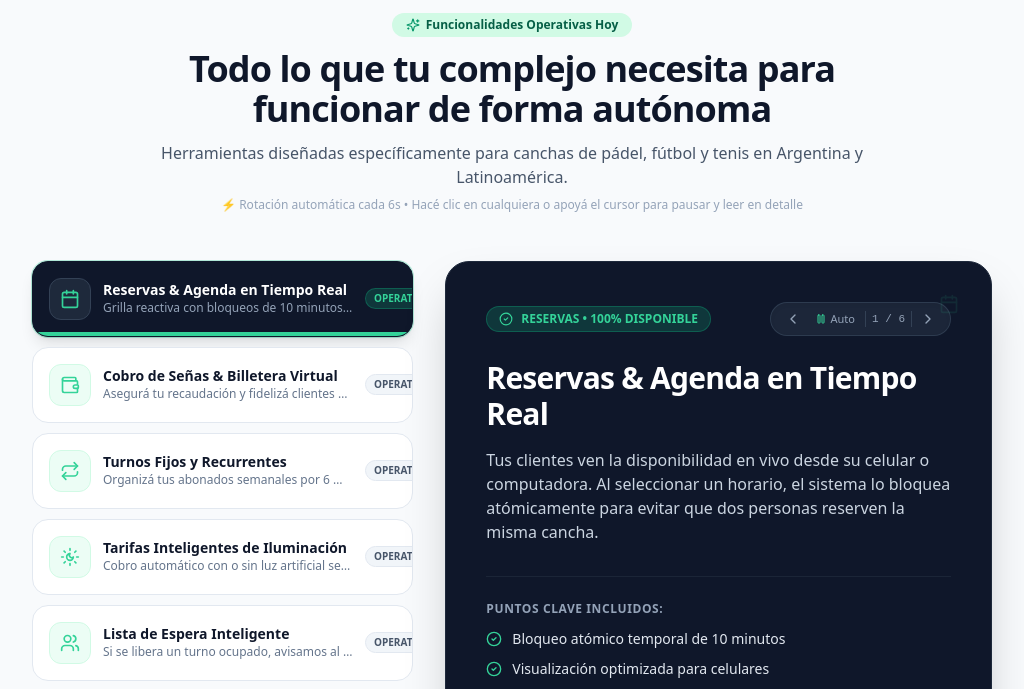
it: Landing Page Vendedora (PortalPage) › permite navegar manualmente por las obleas de funcionalidades y soporta controles de pausa y siguiente/anterior
(page scrolled)
expect the text "1 / 6" is shown: met, box [865,310,912,326]
expect the text "Tus clientes ven la disponibilidad en vivo desde su celular" is shown: met, box [486,448,950,542]
Hacemos click en la oblea "Cobro de Señas & Billetera Virtual"
Click the button "Cobro de Señas & Billetera Virtual": coordinates (223, 384) [32,346,413,422]
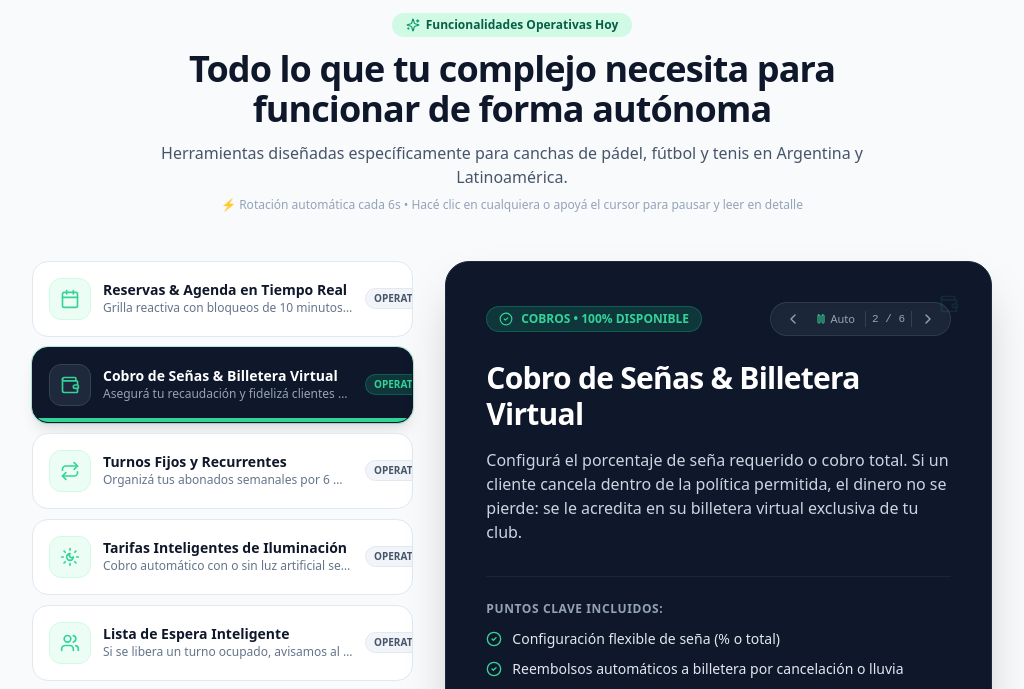
expect the text "2 / 6" is shown: met, box [865,310,912,326]
expect the text "Configurá el porcentaje de seña requerido o cobro total" is shown: met, box [486,448,949,542]
Probamos el botón Siguiente
Click the button named "Siguiente funcionalidad": coordinates (928, 318) [916,306,940,330]
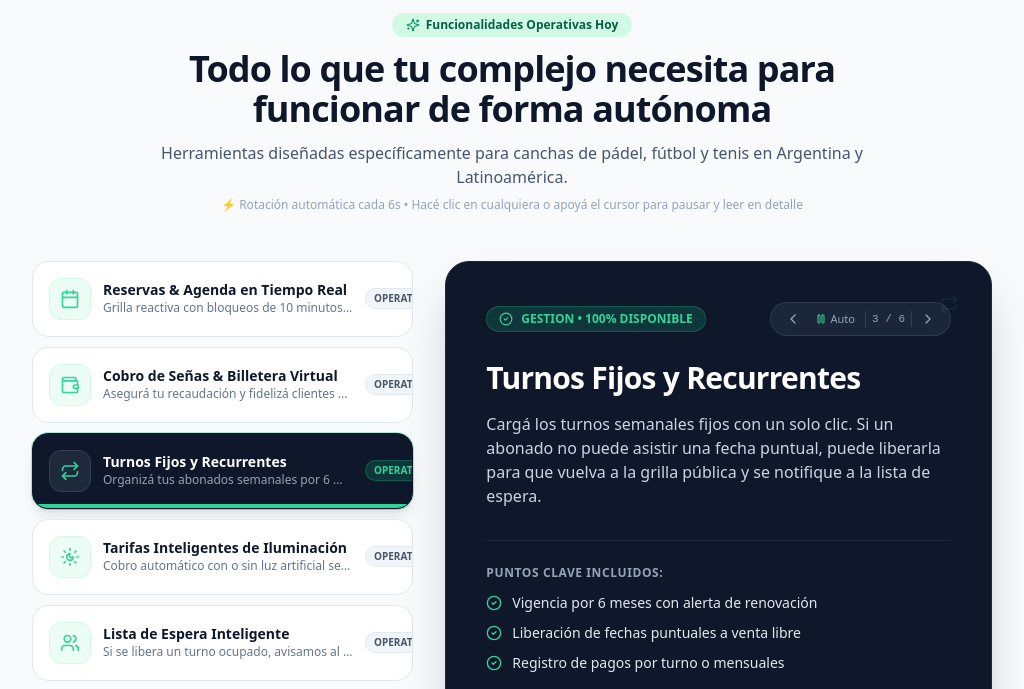
expect the text "3 / 6" is shown: met, box [865,310,912,326]
expect the text "Cargá los turnos semanales fijos con un solo clic" is shown: met, box [486,412,941,506]
Probamos el botón Anterior
Click the button named "Funcionalidad anterior": coordinates (792, 318) [780,306,804,330]
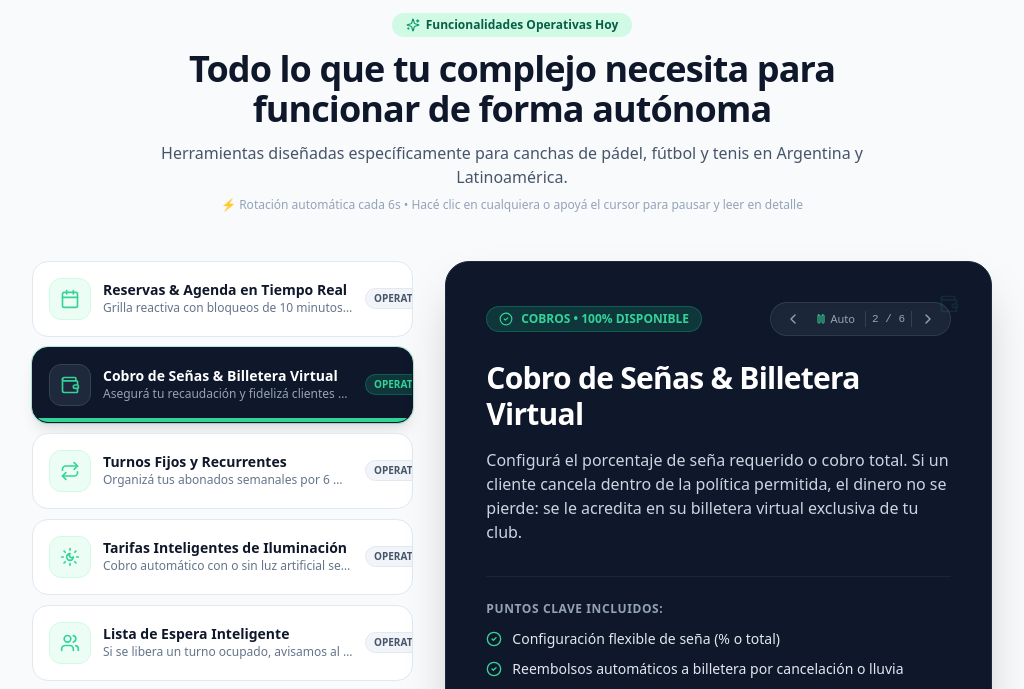
expect the text "2 / 6" is shown: met, box [865,310,912,326]
Probamos alternar Pausa / Auto-rotación
Click the button with aria-label "Pausar rotación automática": coordinates (835, 318) [808,308,861,328]
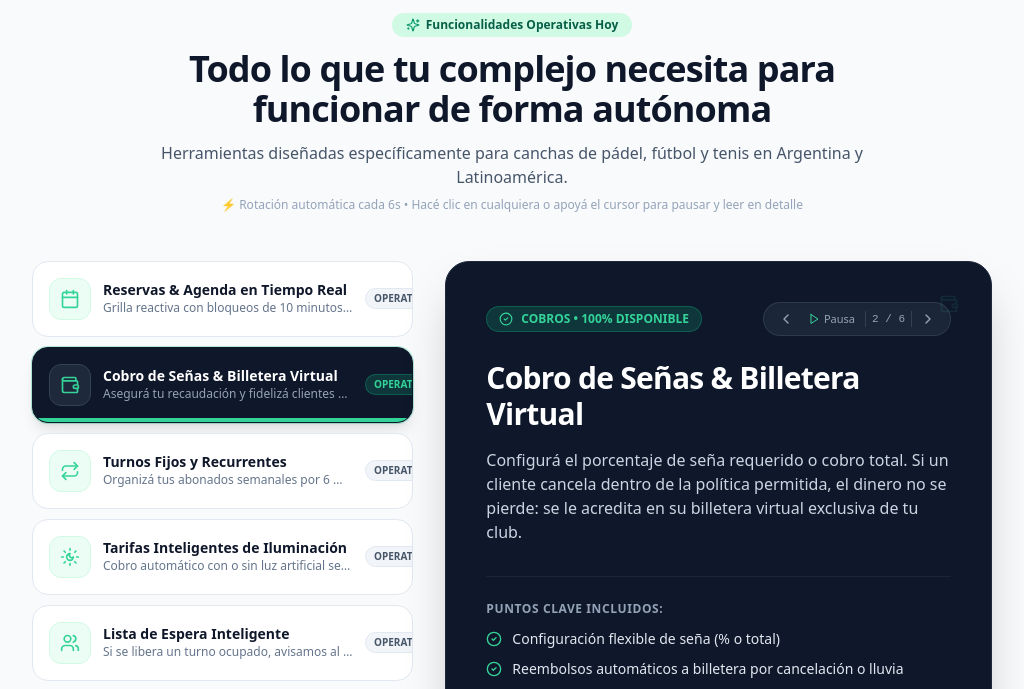
expect the button with aria-label "Reanudar rotación automática" is shown: met, box [802,308,861,328]
